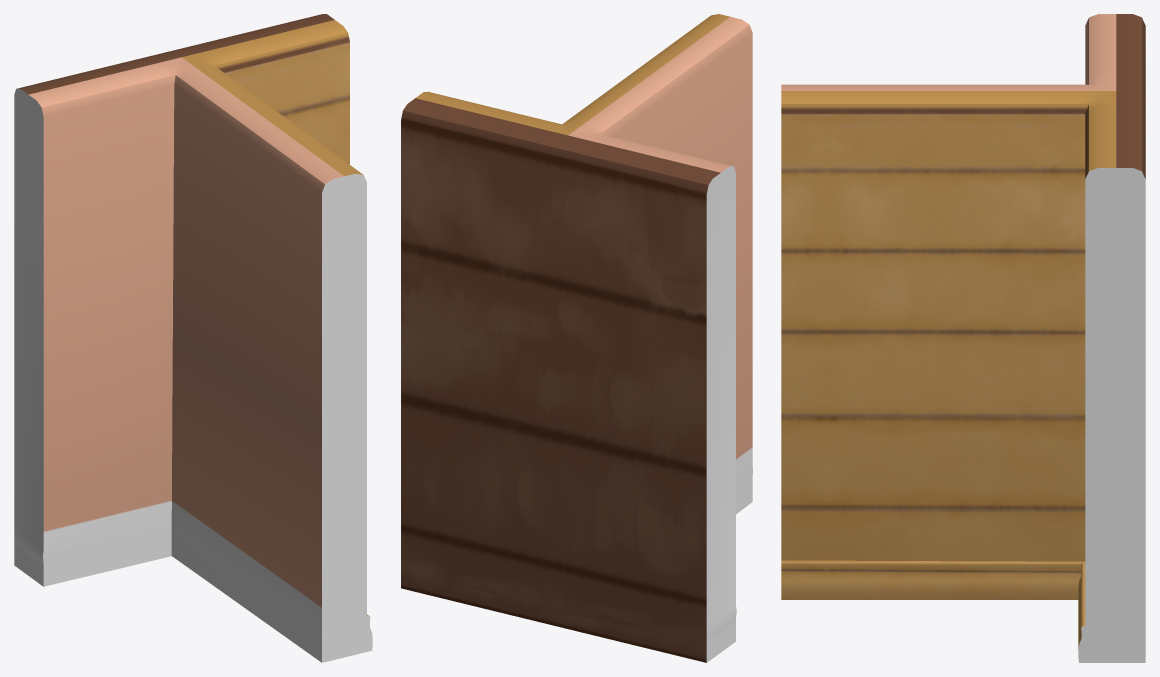
File: Wall_outer_T_02.fbx
The picture shows the model from 3 angles, left to right: view 1: azimuth 30°, elevation 25°; view 2: azimuth 150°, elevation 25°; view 3: azimuth 270°, elevation 25°; orthographic projection. The views are drawn at different scales.
Parts seen in each view (by area): view 1: OuterWall_T_00.004; view 2: OuterWall_T_00.004; view 3: OuterWall_T_00.004.
Part boxes in pixels (x1,y1,x2,y2): OuterWall_T_00.004: [14, 14, 372, 662]; OuterWall_T_00.004: [401, 14, 752, 662]; OuterWall_T_00.004: [781, 14, 1145, 662].
Size of the model in its own units: 100 by 150 by 100.
